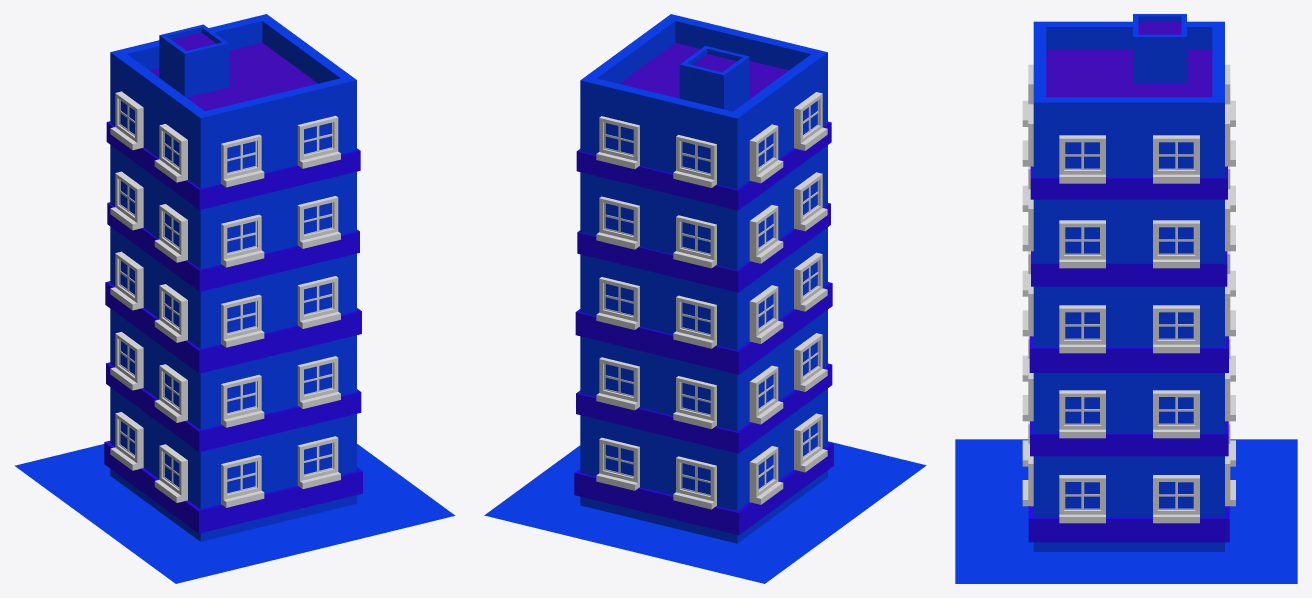
Rendered from building_1_blue.fbx.
3 renders of one model, left to right at view 1: azimuth 30°, elevation 25°; view 2: azimuth 150°, elevation 25°; view 3: azimuth 270°, elevation 25°, orthographic. The views are drawn at different scales.
Visible parts, largest first — view 1: Cube.009, Plane, Cube.011, Cube.010; view 2: Cube.009, Plane, Cube.011, Cube.010; view 3: Cube.009, Plane, Cube.010, Cube.011.
Boxes of the visible parts, x1,y1,x2,y2 form: Cube.009: (104, 14, 362, 541); Plane: (14, 444, 455, 583); Cube.011: (221, 115, 340, 507); Cube.010: (110, 91, 187, 502); Cube.009: (574, 14, 833, 543); Plane: (484, 441, 926, 583); Cube.011: (596, 116, 716, 509); Cube.010: (749, 92, 827, 504); Cube.009: (1028, 14, 1229, 551); Plane: (955, 439, 1297, 583); Cube.010: (1059, 135, 1199, 523); Cube.011: (1022, 64, 1235, 506).
Size of the model in its own units: 1000 by 1527 by 1000.
